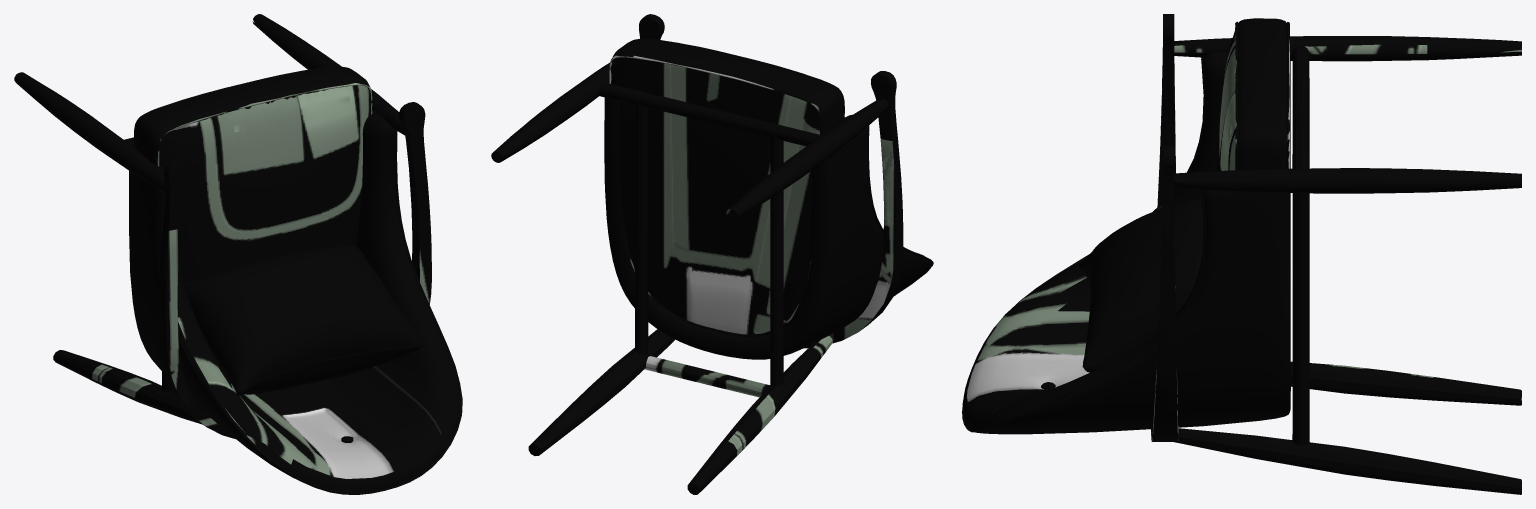
3 renders of one model, left to right at view 1: azimuth 30°, elevation 25°; view 2: azimuth 150°, elevation 25°; view 3: azimuth 270°, elevation 25°, orthographic. The views are drawn at different scales.
Size of the model in its own units: 0.6 by 0.7238 by 0.961.
